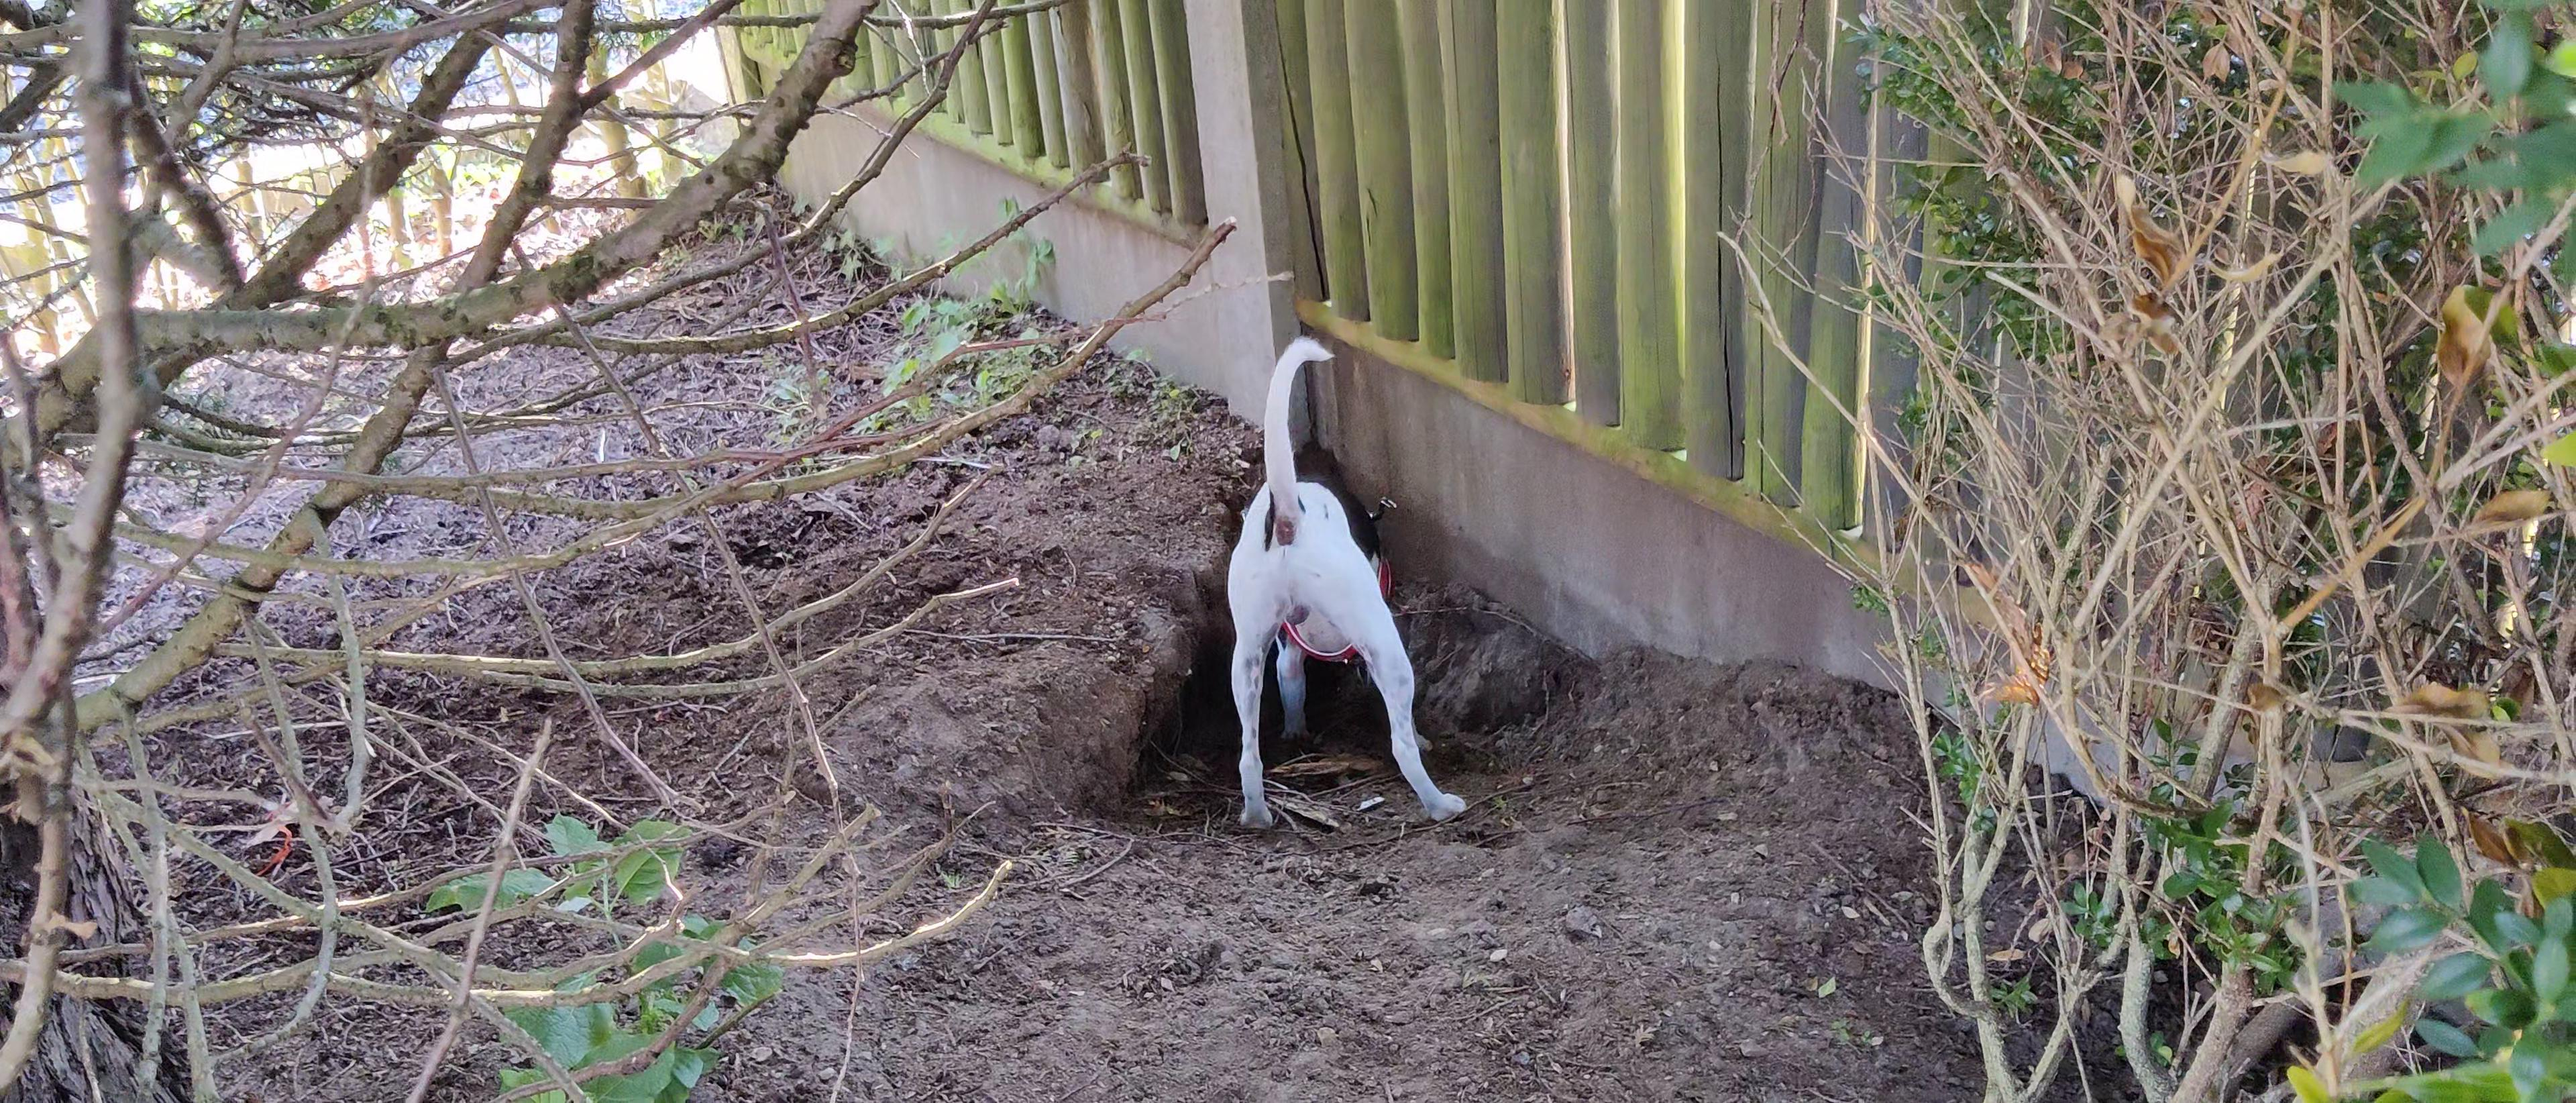Dog: (1183, 329, 1493, 833)
